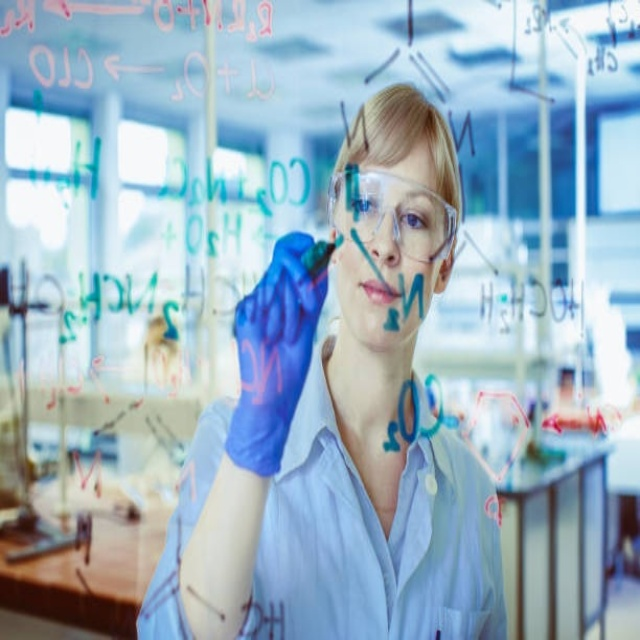Gafas: (328, 169, 459, 264)
Guantes: (225, 231, 333, 477)
Sin_mascara: (349, 267, 412, 340)
